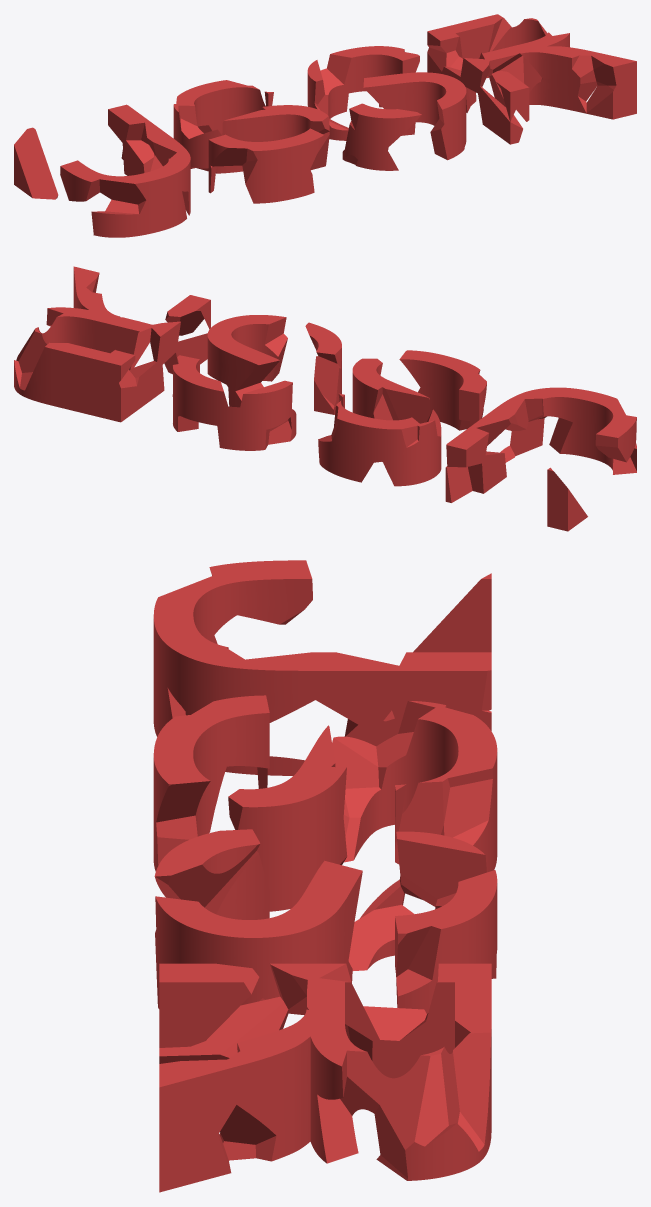
The model's file is cracked_text.gltf.
3 renders of one model, top to bottom at view 1: azimuth 30°, elevation 25°; view 2: azimuth 150°, elevation 25°; view 3: azimuth 270°, elevation 25°, orthographic. The views are drawn at different scales.
Parts seen in each view (by area): view 1: shard_38, shard_6, shard_71, shard_12, shard_89, shard_139, shard_91, shard_123, shard_126, shard_95, shard_9, shard_57 (+42 smaller); view 2: shard_36, shard_129, shard_89, shard_91, shard_83, shard_77, shard_45, shard_6, shard_114, shard_93, shard_121, shard_3 (+41 smaller); view 3: shard_135, shard_117, shard_140, shard_134, shard_71, shard_93, shard_27, shard_3, shard_77, shard_133, shard_99, shard_57 (+43 smaller).
Part boxes in pixels (x1,y1,x2,y2): shard_38: (242, 155, 311, 203); shard_6: (14, 127, 58, 199); shard_71: (349, 103, 421, 148); shard_12: (138, 188, 186, 235); shard_89: (363, 72, 420, 109); shard_139: (586, 85, 636, 119); shard_91: (327, 46, 374, 93); shard_123: (455, 15, 502, 58); shard_126: (520, 41, 579, 79); shard_95: (405, 74, 459, 125); shard_9: (99, 173, 155, 204); shard_57: (269, 105, 329, 137); shard_36: (383, 436, 440, 486); shard_129: (25, 342, 75, 410); shard_89: (220, 341, 279, 391); shard_91: (180, 376, 228, 425); shard_83: (217, 406, 269, 450); shard_77: (240, 380, 292, 429); shard_45: (365, 417, 419, 461); shard_6: (547, 467, 587, 531); shard_114: (83, 370, 136, 421); shard_93: (214, 315, 286, 349); shard_121: (100, 317, 152, 369); shard_3: (595, 415, 636, 462); shard_135: (374, 1047, 459, 1178); shard_117: (159, 963, 259, 1047); shard_140: (159, 1059, 244, 1138); shard_134: (220, 1050, 316, 1144); shard_71: (154, 829, 260, 907); shard_93: (155, 896, 252, 964); shard_27: (309, 652, 398, 724); shard_3: (209, 560, 312, 624); shard_77: (396, 831, 486, 906); shard_133: (255, 1073, 358, 1163); shard_99: (408, 896, 489, 981); shard_57: (228, 768, 326, 839).
Bounding box in the file's own units: 53.74 × 5 × 14.8.
